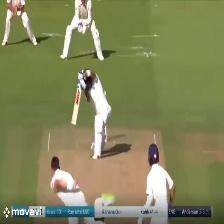batsman: (68, 65, 111, 160)
